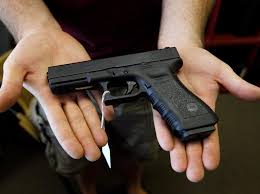gun: (44, 45, 222, 145)
